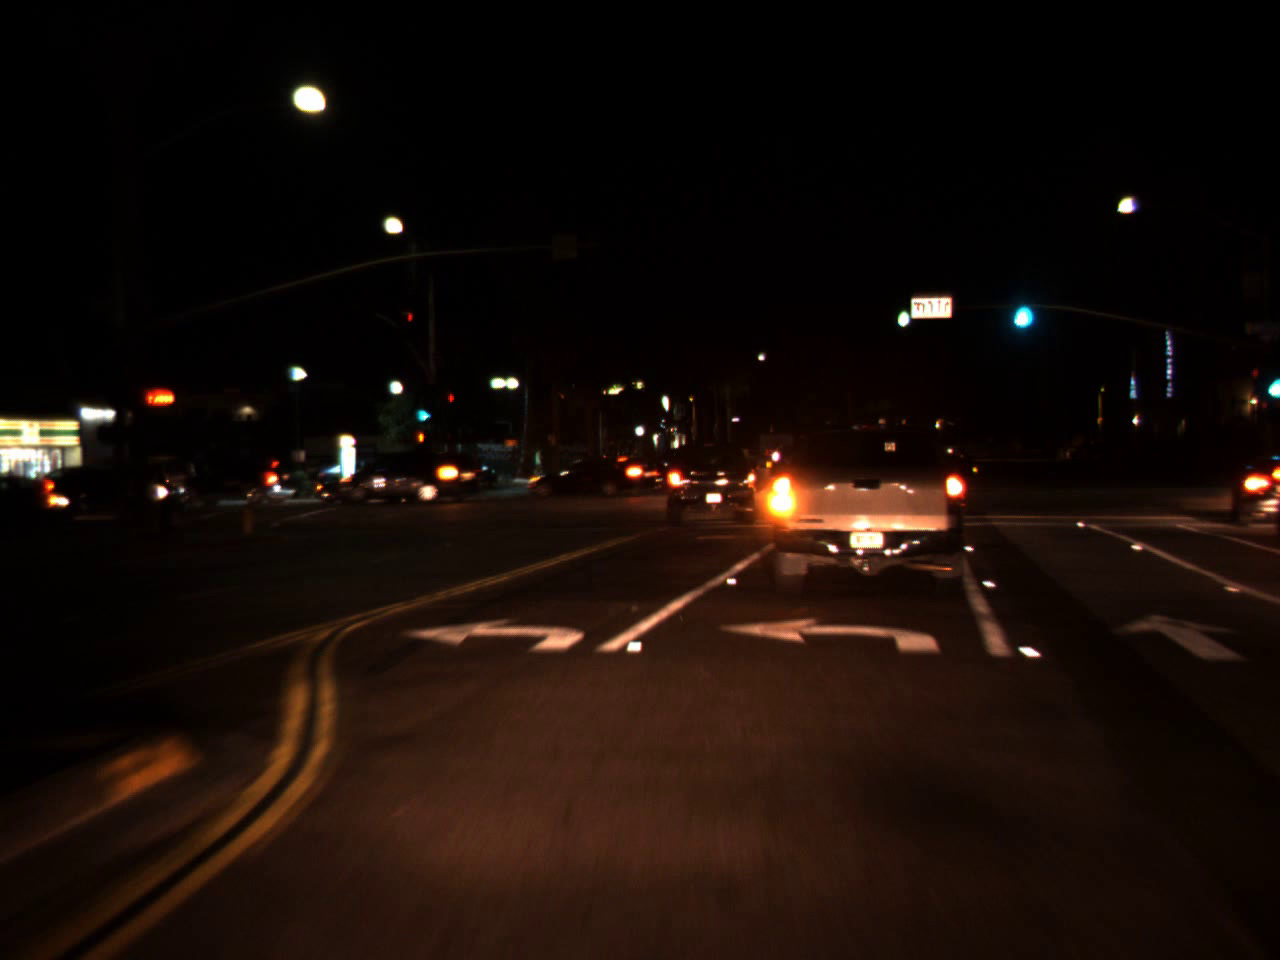go: (1007, 282, 1035, 336), (412, 391, 433, 427), (890, 294, 909, 330), (1263, 363, 1280, 399)
